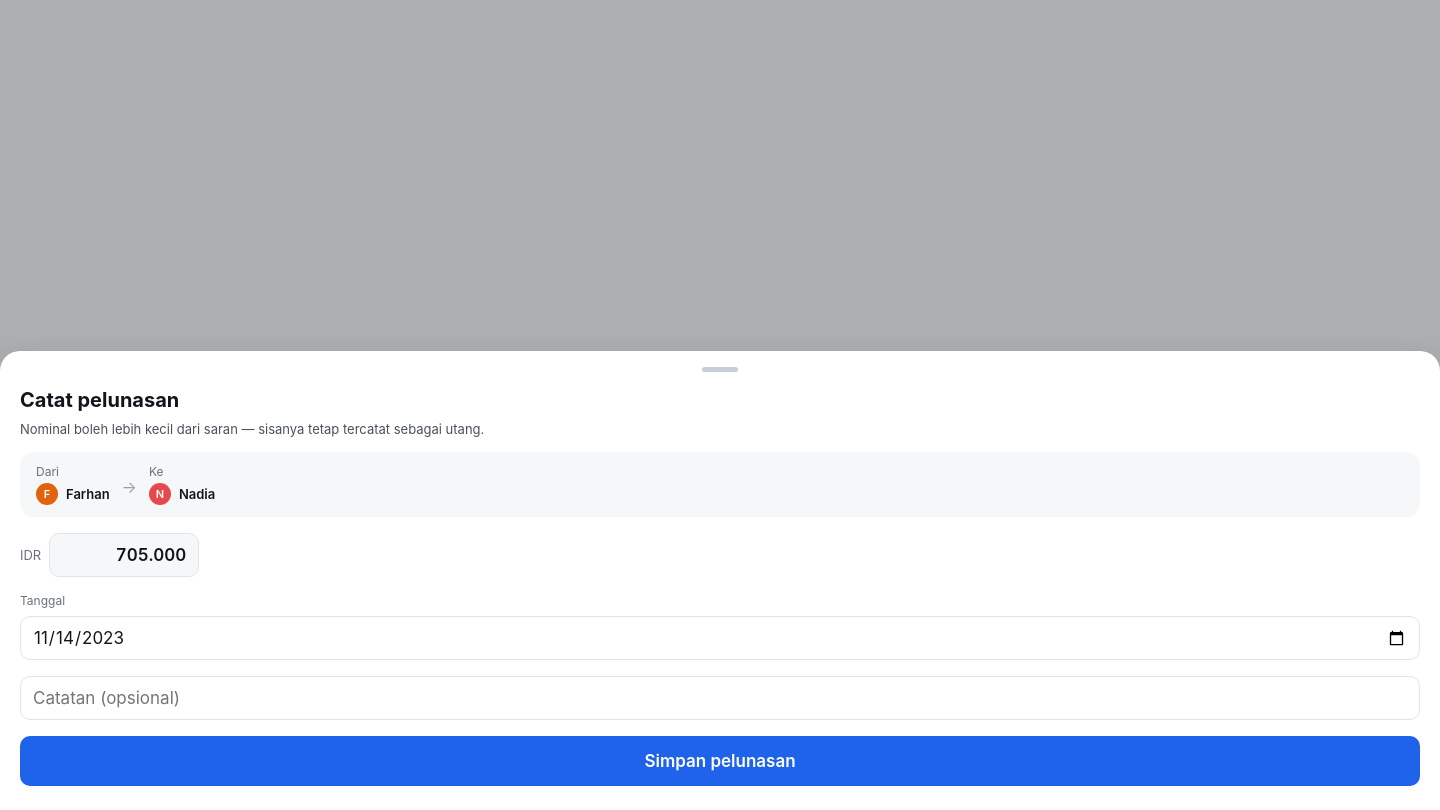
SettleSheet › allows the amount to be reduced below the suggestion — spec.md 11.3 partial payoff
The width and height of the screenshot is (1440, 810).
Replace the text in the field named "Nominal pelunasan" with "400000" at (124, 555), box [49,533,199,577]
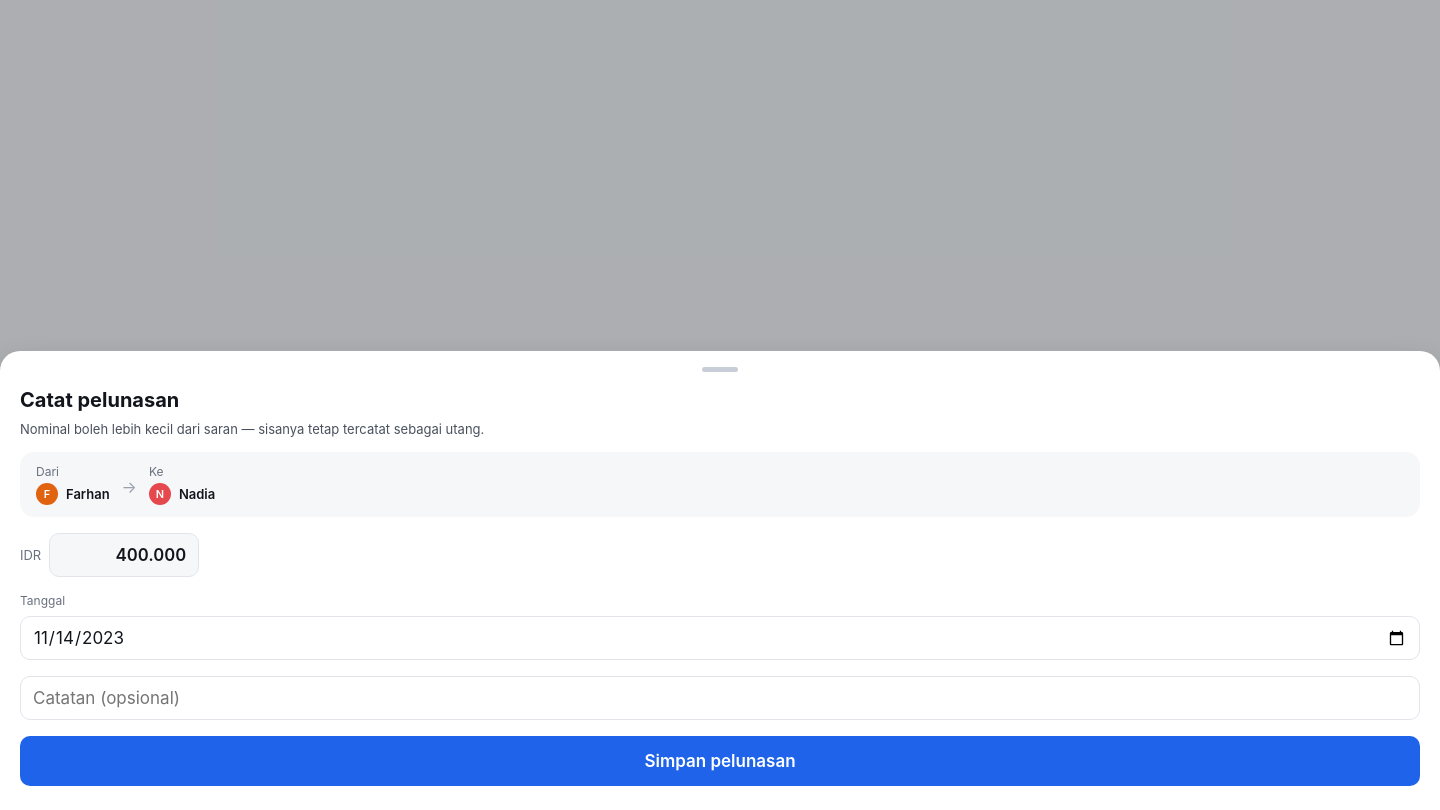
Check: the field named "Nominal pelunasan" holds "400.000", box [49,533,199,577]
